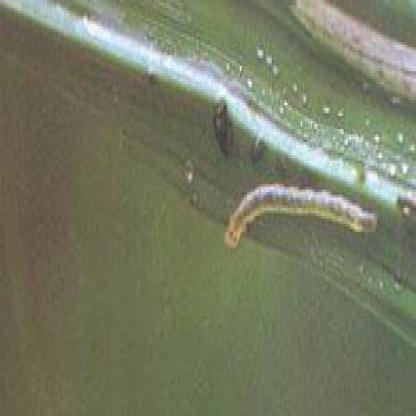leaf-folder: (215, 175, 389, 263)
